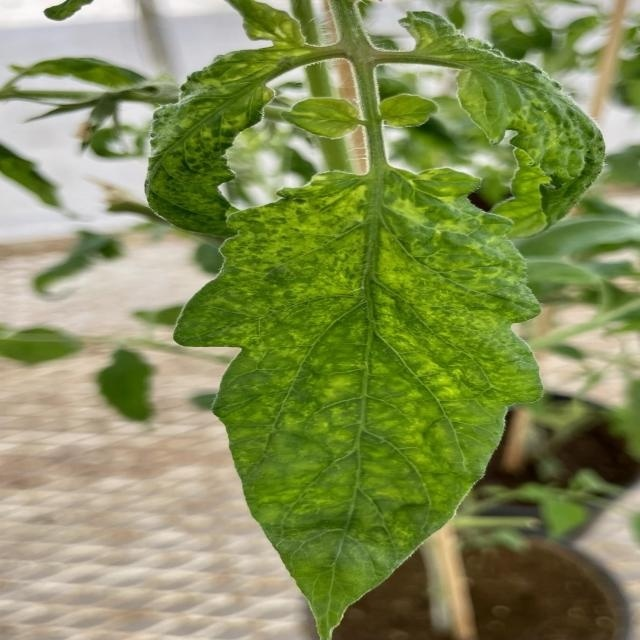T_L_R: (177, 166, 543, 638), (382, 14, 606, 237), (148, 47, 311, 236), (229, 1, 307, 47), (284, 99, 365, 140), (380, 95, 438, 129)
T_S_R: (330, 1, 403, 171)
